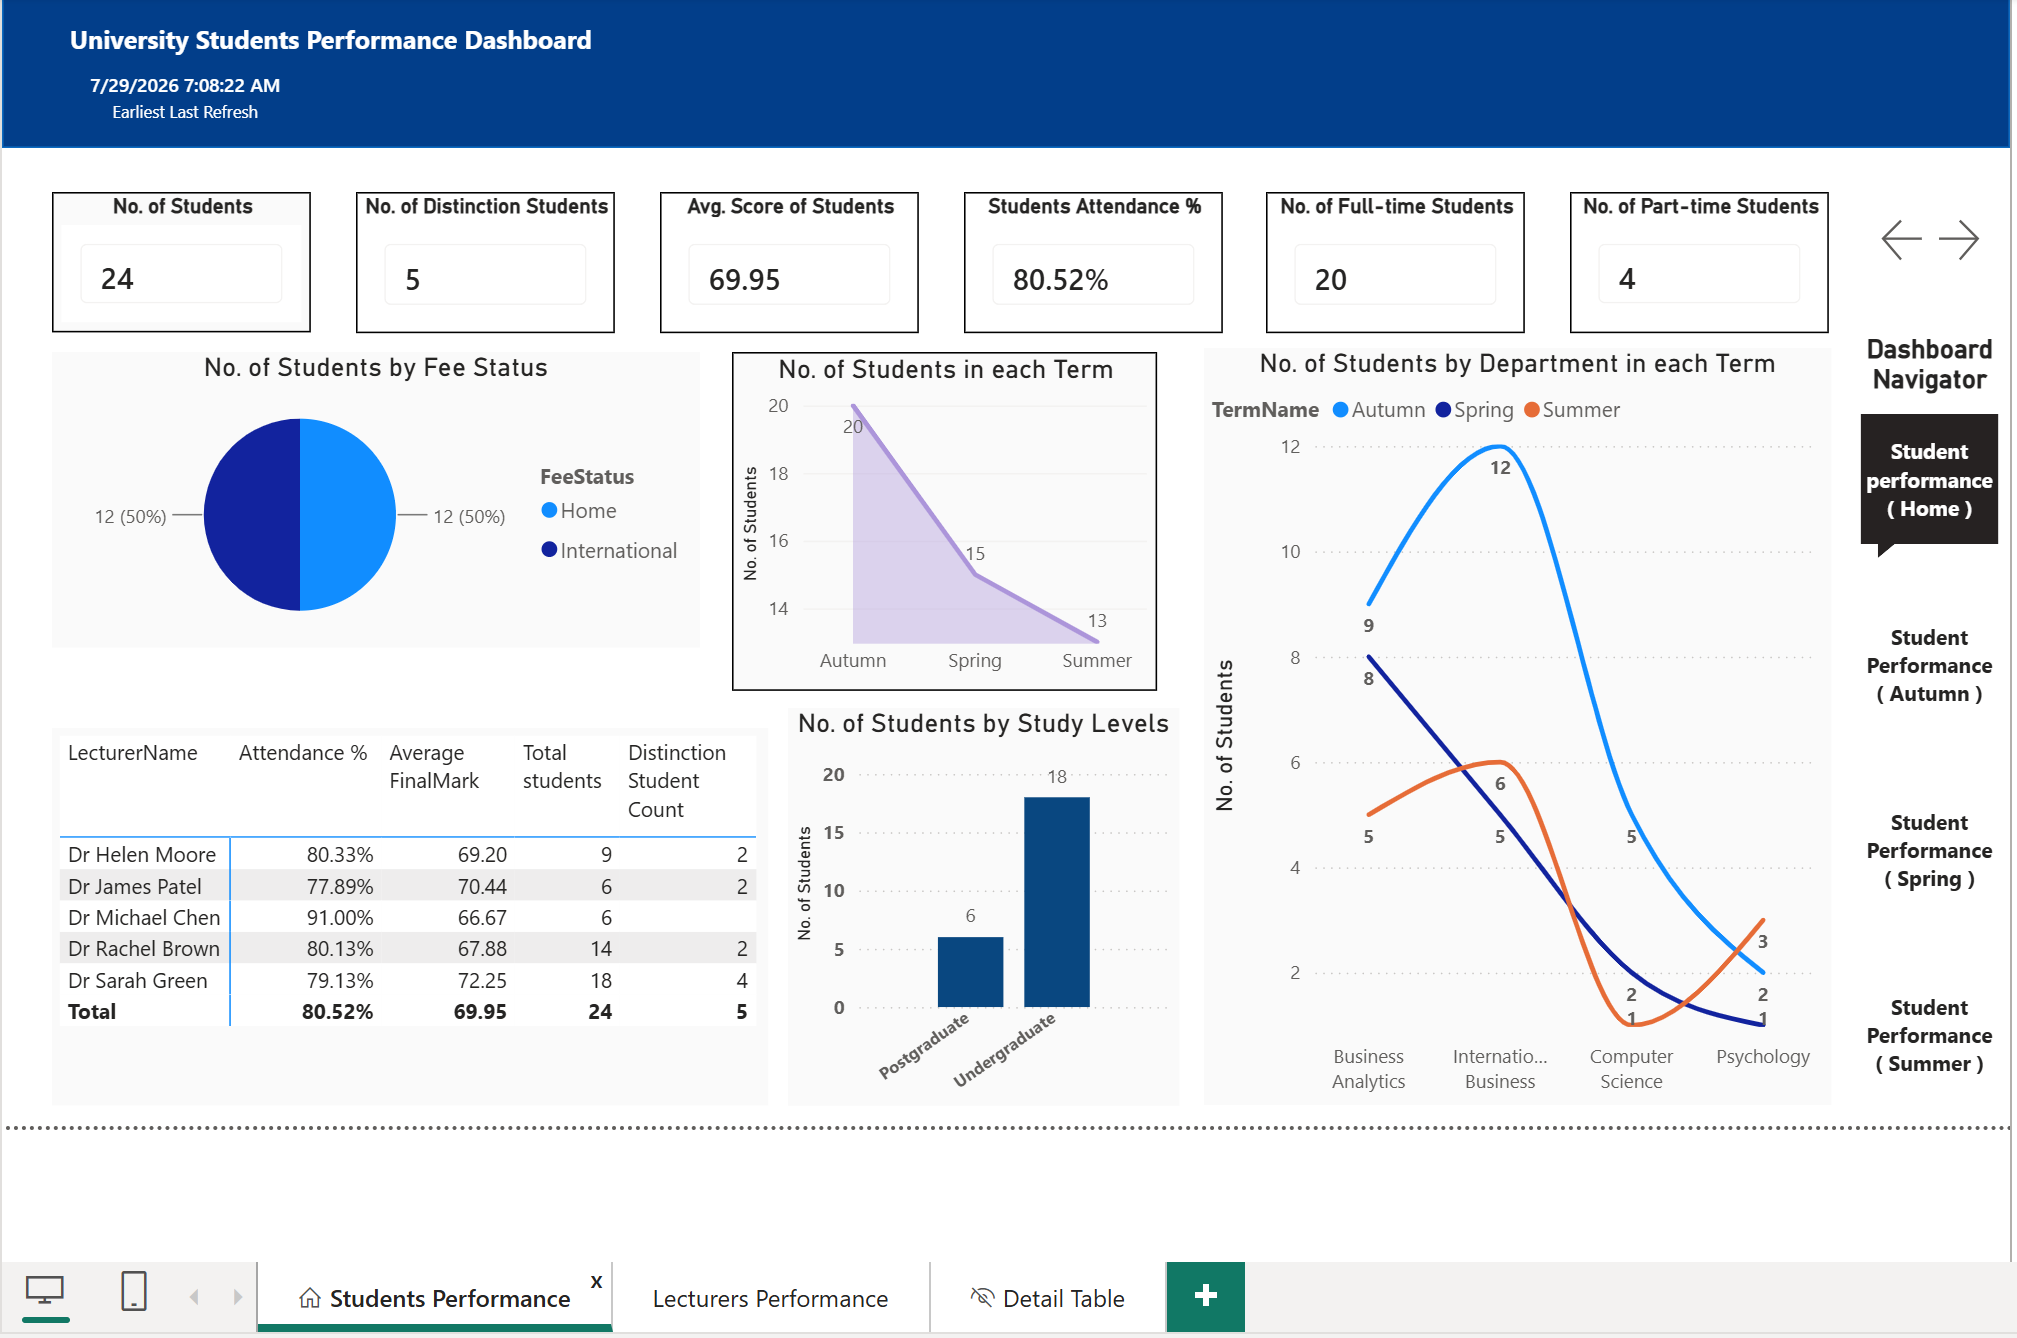

Layout of this report page (visuals, bound fields, positions):
{"tool":"powerbi","page":{"name":"Students Performance","canvas":[1280,720],"ordinal":0},"visuals":[{"type":"shape","box":[0,0,1280,96.9],"z":0},{"type":"actionButton","box":[1229,124.6,36.2,60.9],"z":0,"group":"g2"},{"type":"cardVisual","title":"No. of Students","fields":{"Data":["Count(UniEnrolments.StudentID)"]},"box":[31.9,124.9,165.1,89.4],"z":0,"group":"g1"},{"type":"cardVisual","fields":{"Data":["Min(Toronto TimeZone Refresh.Last Refresh)"]},"box":[17.8,31.9,198.9,65],"z":1000},{"type":"cardVisual","title":"No. of Distinction Students","fields":{"Data":["UniEnrolments.Distinction Student Count"]},"box":[225.5,124.6,165.1,90],"z":1000,"group":"g1"},{"type":"actionButton","box":[1192.8,124.6,36.2,60.9],"z":1000,"group":"g2"},{"type":"textbox","box":[38.2,11.5,364.6,37],"z":2000},{"type":"cardVisual","title":"Avg. Score of Students","fields":{"Data":["Avg(UniEnrolments.FinalMark)"]},"box":[419.1,124.6,165.1,90],"z":2000,"group":"g1"},{"type":"group","id":"g1","title":"Group 1","box":[31.9,124.6,1133.3,91.3],"z":3000},{"type":"cardVisual","title":"Students Attendance %","fields":{"Data":["Avg(UniEnrolments.AttendancePct)"]},"box":[612.8,124.6,165.1,90],"z":3000,"group":"g1"},{"type":"cardVisual","title":"No. of Part-time Students","fields":{"Data":["Count(UniEnrolments.StudentID)"]},"box":[1000,124.7,165.2,89.9],"z":4000,"group":"g1"},{"type":"pieChart","title":"No. of Students by Fee Status","fields":{"Category":["UniStudents.FeeStatus"],"Y":["CountNonNull(UniStudents.StudentID)"]},"box":[31.9,227.5,413,188.4],"z":4000},{"type":"cardVisual","title":"No. of Full-time Students","fields":{"Data":["Count(UniEnrolments.StudentID)"]},"box":[806.4,124.6,165.1,90],"z":5000,"group":"g1"},{"type":"clusteredColumnChart","title":"No. of Students by Study Levels","fields":{"Category":["UniStudents.StudyLevels"],"Y":["Count(UniEnrolments.StudentID)"]},"box":[501.4,453.6,249.3,253.6],"z":5000},{"type":"lineChart","title":"No. of Students by Department in each Term","fields":{"Category":["UniLecturers.Department"],"Y":["Count(UniEnrolments.StudentID)"],"Series":["UniTerms.TermName"]},"box":[766.7,224.6,400,482.6],"z":6000},{"type":"areaChart","title":"No. of Students in each Term","fields":{"Y":["Count(UniEnrolments.StudentID)"],"Category":["UniTerms.TermName"]},"box":[465.2,227.5,271,215.9],"z":7000},{"type":"pivotTable","fields":{"Rows":["UniLecturers.LecturerName"],"Values":["Avg(UniEnrolments.AttendancePct)","Avg(UniEnrolments.FinalMark)","UniEnrolments.Total students","UniEnrolments.Distinction Student Count"]},"box":[31.9,466.7,456.5,240.6],"z":8000},{"type":"bookmarkNavigator","title":"Dashboard Navigator","box":[1176.8,215.9,104.3,505.8],"z":9000},{"type":"group","id":"g2","title":"Group 2","box":[1192.8,124.6,72.5,60.9],"z":10003}]}

Visuals, with their boxes on the page's 1280x720 design canvas (x1, y1, x2, y2). These are canvas units, not pixel positions in the 2017x1338 screenshot, which may show the page scaled, cropped or inside an application window:
shape: 0 0 1280 97
actionButton: 1229 125 1265 186
"No. of Students" cardVisual: 32 125 197 214
cardVisual - Min(Toronto TimeZone Refresh.Last Refresh): 18 32 217 97
"No. of Distinction Students" cardVisual: 226 125 391 215
actionButton: 1193 125 1229 186
textbox: 38 12 403 48
"Avg. Score of Students" cardVisual: 419 125 584 215
"Group 1" group: 32 125 1165 216
"Students Attendance %" cardVisual: 613 125 778 215
"No. of Part-time Students" cardVisual: 1000 125 1165 215
"No. of Students by Fee Status" pieChart: 32 228 445 416
"No. of Full-time Students" cardVisual: 806 125 972 215
"No. of Students by Study Levels" clusteredColumnChart: 501 454 751 707
"No. of Students by Department in each Term" lineChart: 767 225 1167 707
"No. of Students in each Term" areaChart: 465 228 736 443
pivotTable - UniLecturers.LecturerName x Avg(UniEnrolments.AttendancePct): 32 467 488 707
"Dashboard Navigator" bookmarkNavigator: 1177 216 1281 722
"Group 2" group: 1193 125 1265 186
